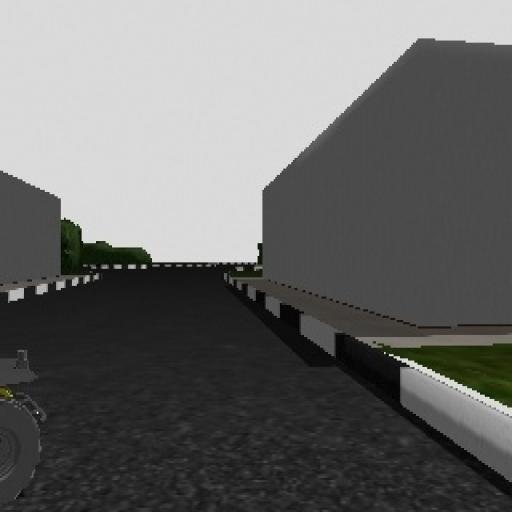huskya200: (0, 344, 60, 512)
